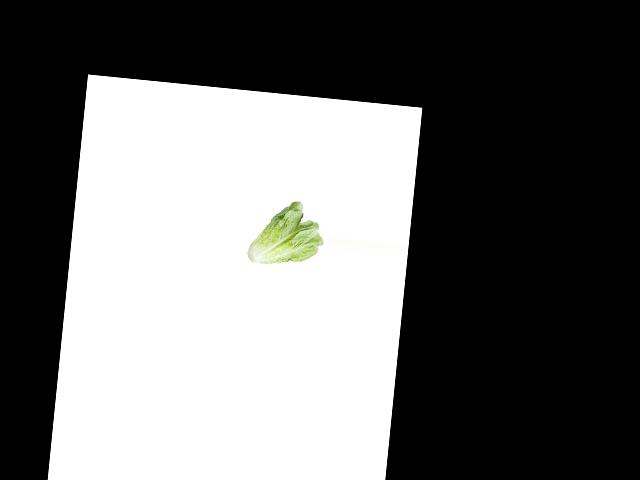lettuce: (246, 194, 328, 272)
